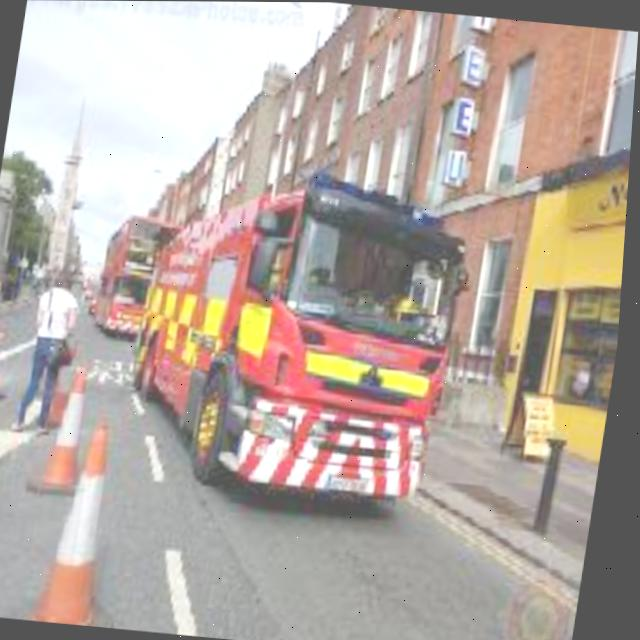emergency: (123, 177, 485, 502), (86, 209, 175, 332)
